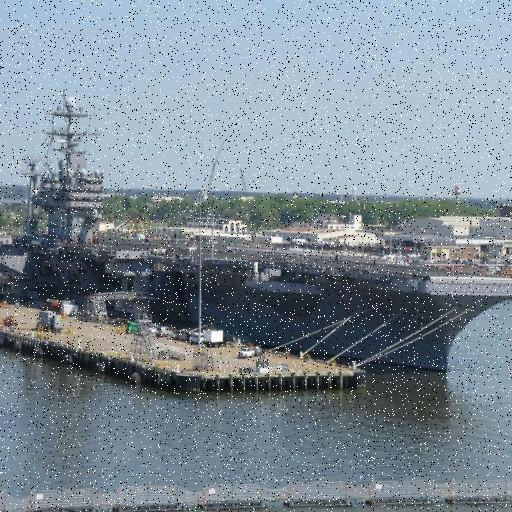Portanaves: (1, 69, 512, 386)
